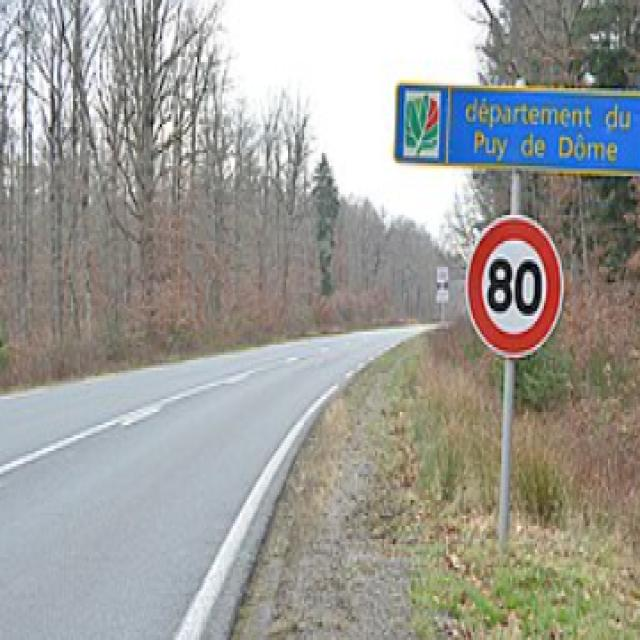speed_80: (464, 214, 568, 360)
